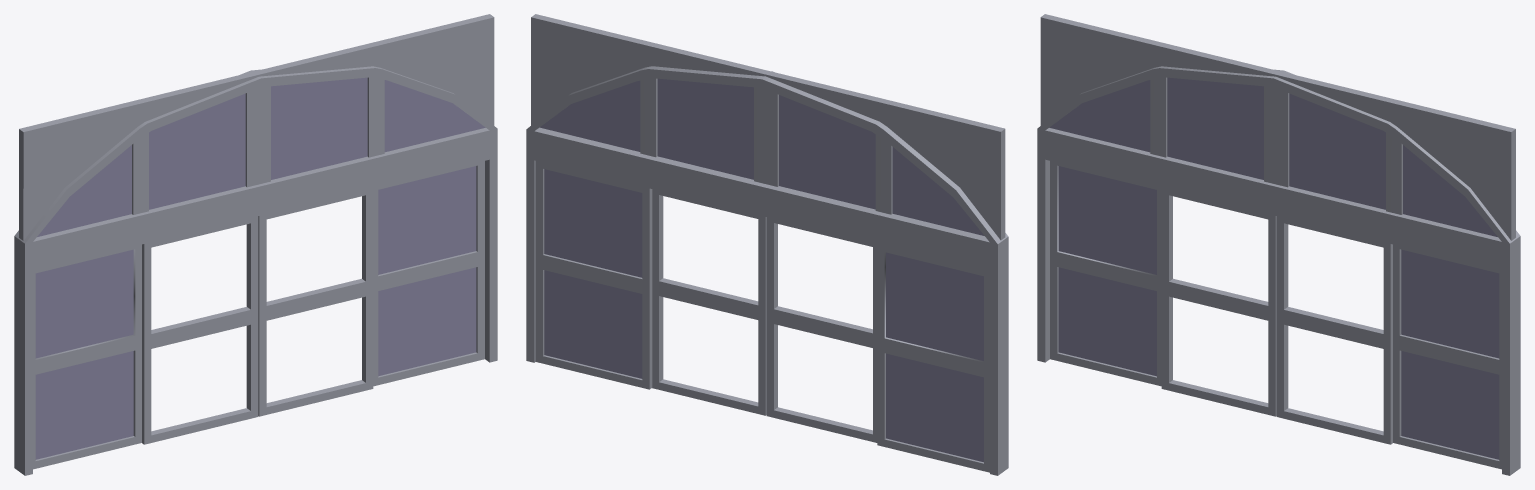
Rendered from entrance_door.fbx.
3 renders of one model, left to right at view 1: azimuth 30°, elevation 25°; view 2: azimuth 150°, elevation 25°; view 3: azimuth 330°, elevation 25°, orthographic.
Parts seen in each view (by area): view 1: window_sliding_door, frame_window_sliding_door, entrance_wall2, sliding_door; view 2: window_sliding_door, frame_window_sliding_door, entrance_wall2, sliding_door; view 3: window_sliding_door, frame_window_sliding_door, entrance_wall2, sliding_door.
Boxes of the visible parts, left/top/right/bottom form: window_sliding_door: left=35, top=77, right=485, bottom=459; frame_window_sliding_door: left=14, top=66, right=497, bottom=475; entrance_wall2: left=19, top=14, right=494, bottom=240; sliding_door: left=142, top=188, right=373, bottom=444; window_sliding_door: left=540, top=78, right=984, bottom=462; frame_window_sliding_door: left=526, top=66, right=1008, bottom=475; entrance_wall2: left=531, top=14, right=1005, bottom=240; sliding_door: left=652, top=189, right=877, bottom=442; window_sliding_door: left=1049, top=77, right=1499, bottom=459; frame_window_sliding_door: left=1037, top=66, right=1520, bottom=475; entrance_wall2: left=1040, top=14, right=1515, bottom=240; sliding_door: left=1161, top=188, right=1392, bottom=444.
Bounding box in the file's own units: 1308 × 905 × 51.37.
